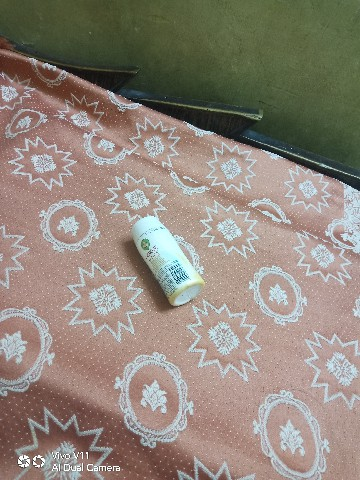gokulsantol small: (113, 205, 210, 321)
